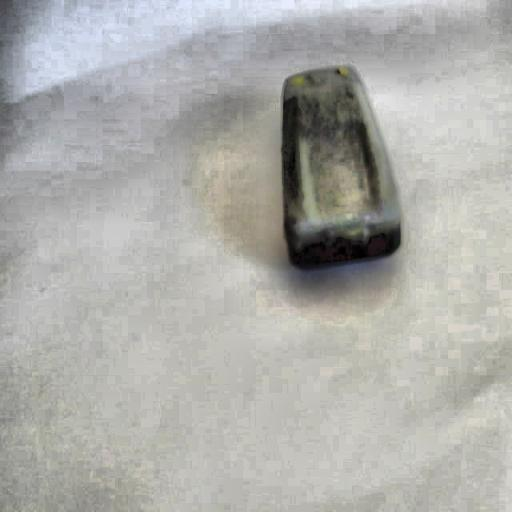normal_car: (278, 65, 404, 272)
